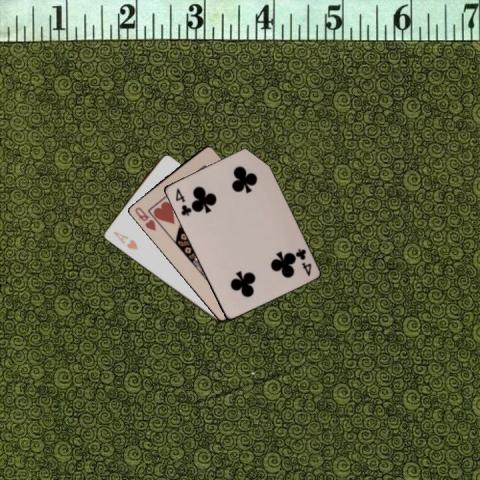4c: (292, 246, 313, 277), (172, 186, 192, 218)
Ah: (110, 228, 139, 251)
Qh: (132, 204, 158, 232)
